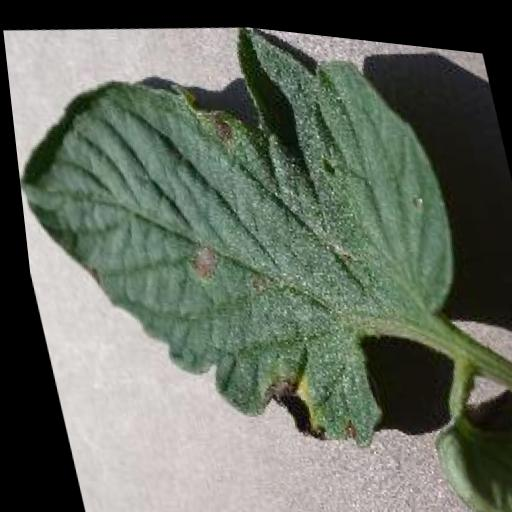Early Blight: (0, 0, 495, 484)
